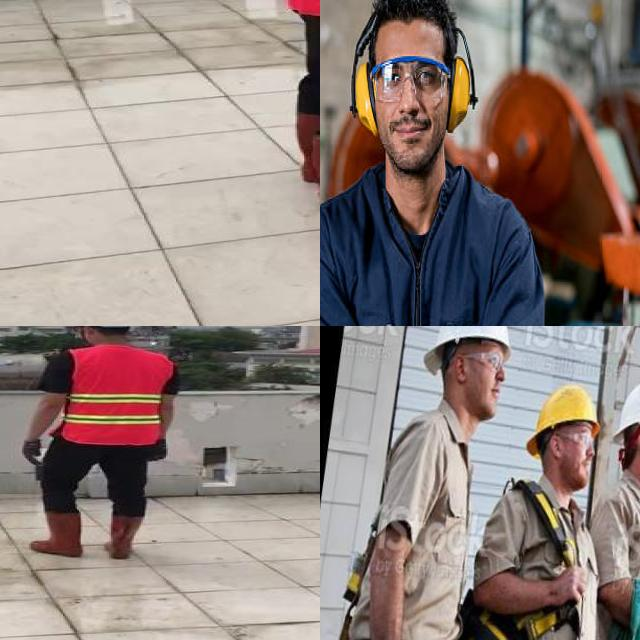Ear-protection: (352, 58, 379, 135), (451, 54, 475, 131)
Harness: (511, 481, 585, 640)
boots: (282, 107, 320, 183), (31, 510, 82, 556), (106, 515, 144, 560)
glasses: (367, 54, 453, 103)
hand_glove: (22, 438, 47, 463), (150, 439, 170, 463)
person: (320, 0, 549, 326), (16, 326, 180, 561)
vest: (68, 347, 168, 444)
